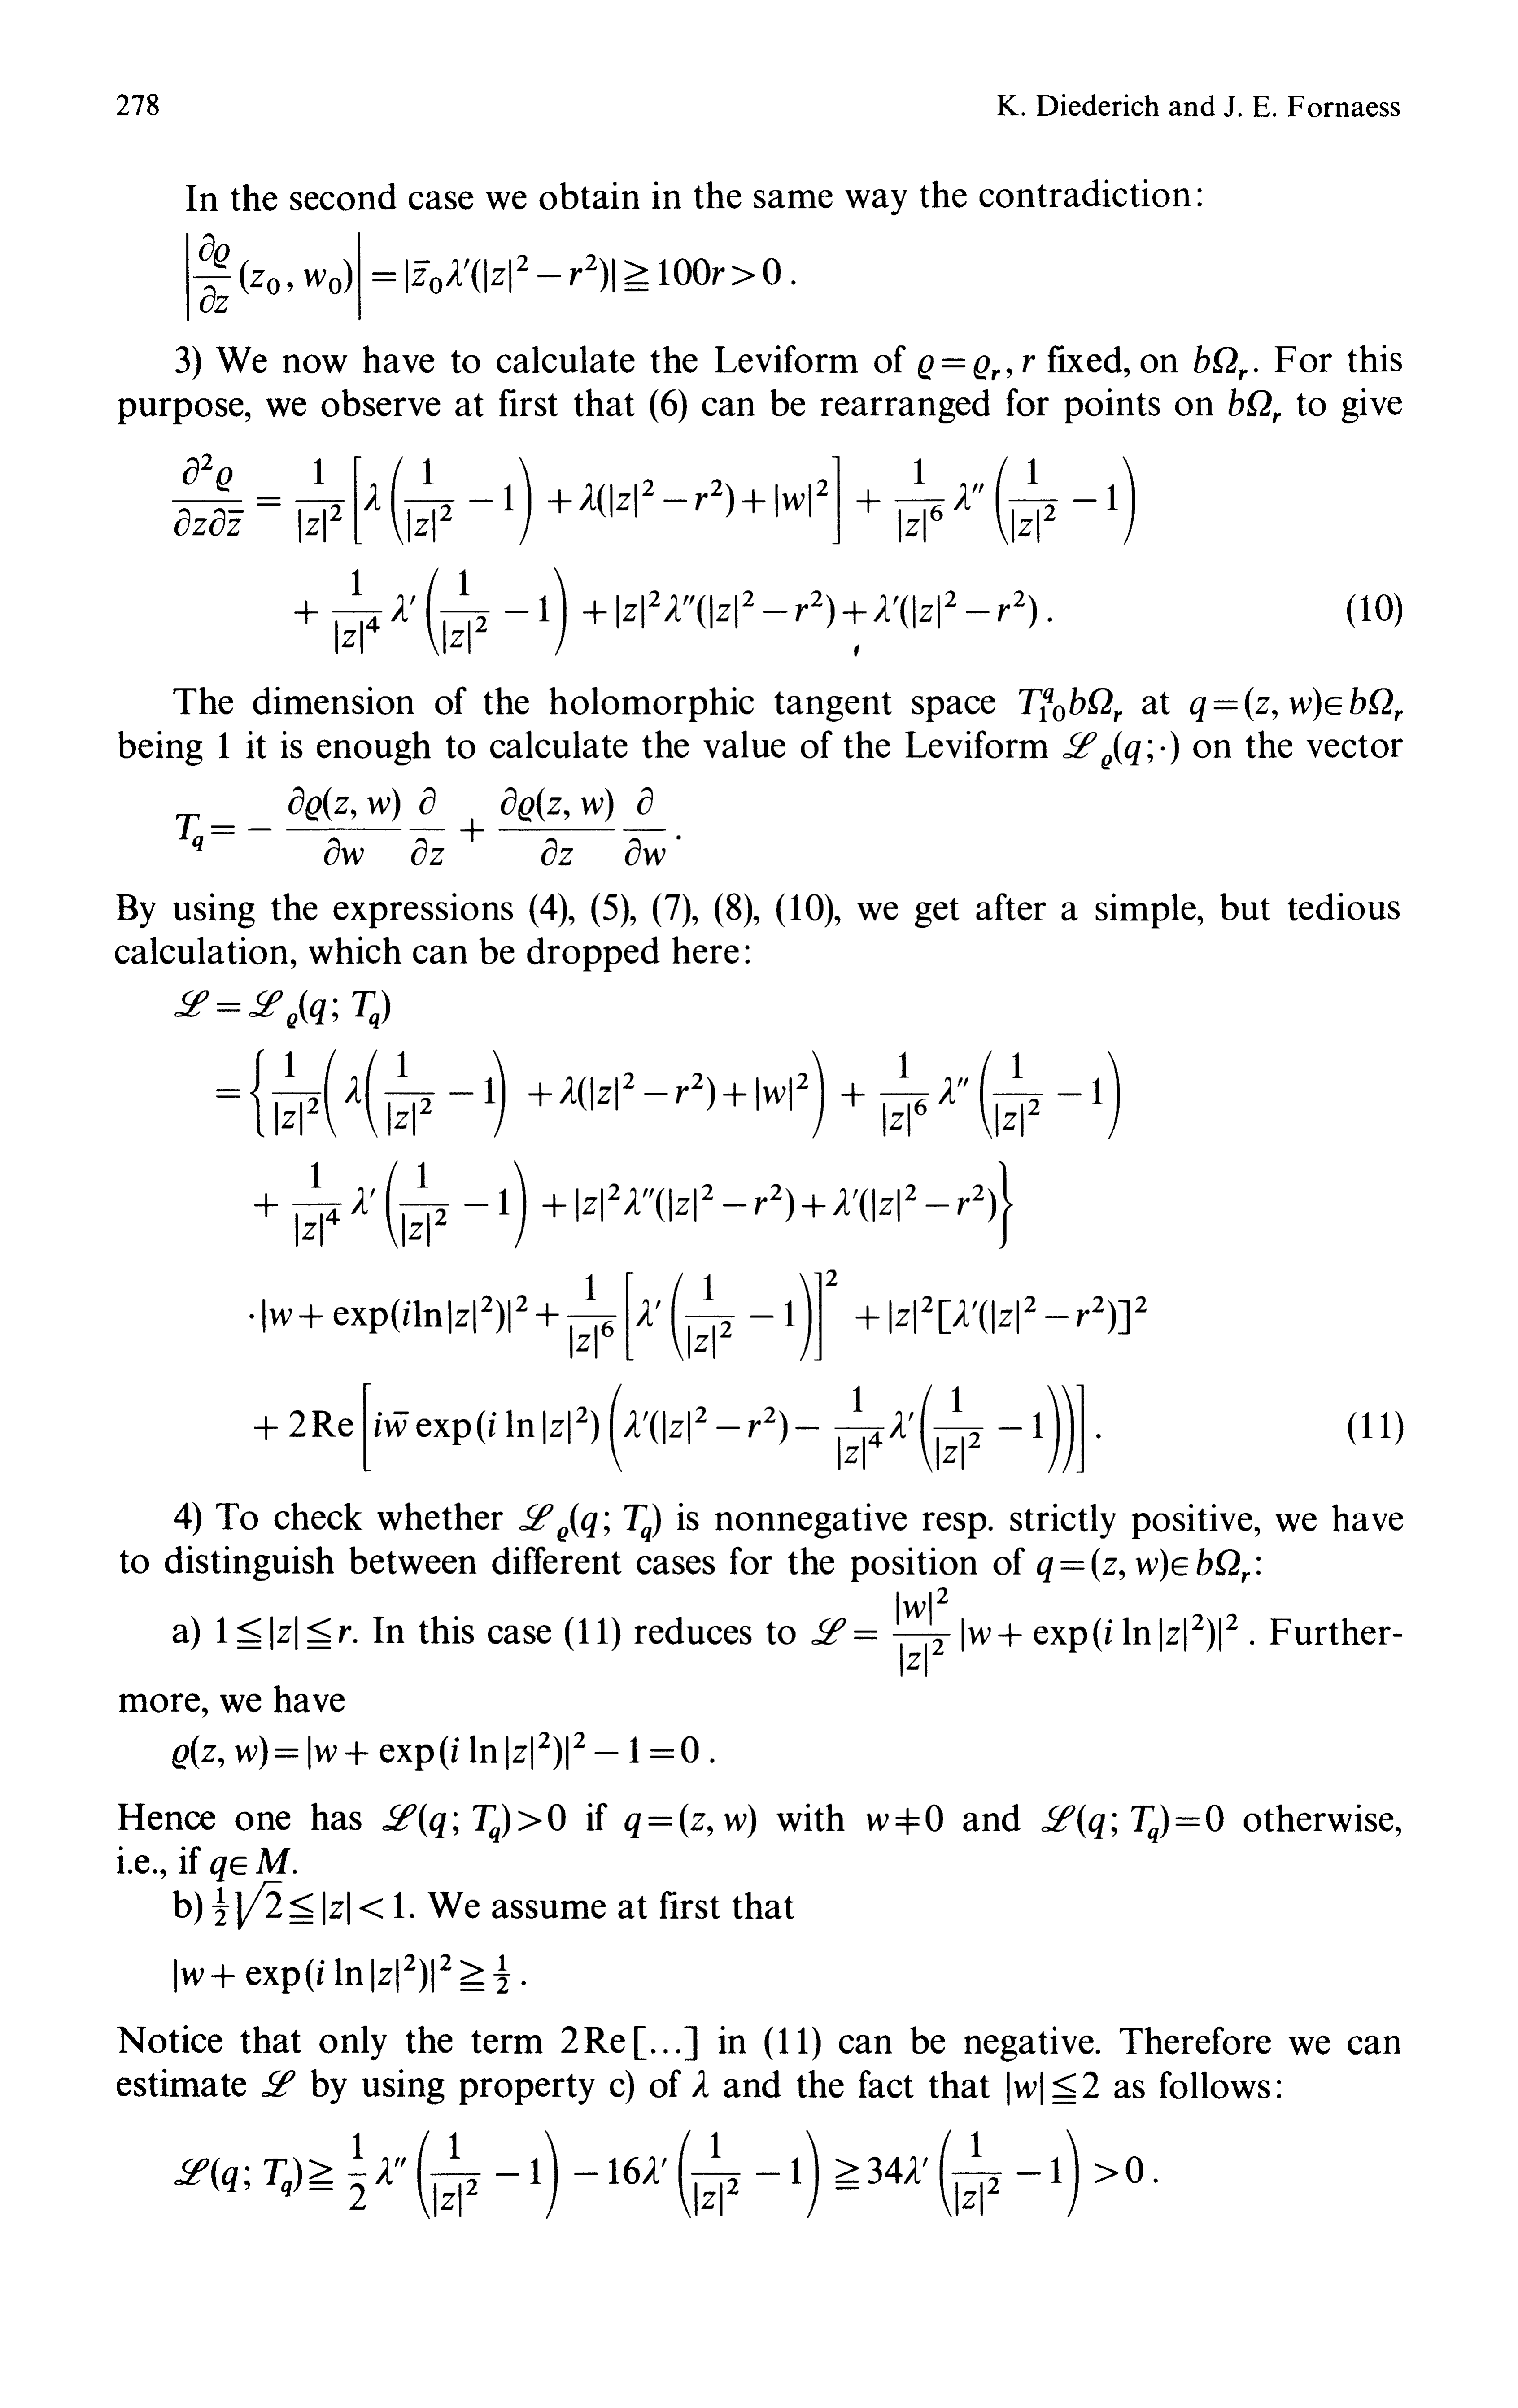maths: (171, 453, 1135, 544), (175, 2130, 1144, 2219), (250, 1270, 1145, 1361), (217, 1049, 1119, 1138), (254, 1383, 1084, 1472), (254, 1159, 1013, 1249), (294, 567, 1037, 656), (192, 233, 780, 320), (177, 787, 665, 866), (811, 1588, 1236, 1677), (171, 1731, 698, 1770), (210, 1855, 404, 1929), (175, 1953, 511, 1994), (175, 990, 390, 1028), (1037, 1548, 1250, 1583), (383, 1803, 565, 1843), (1189, 687, 1403, 720), (1042, 1805, 1222, 1843), (519, 1504, 661, 1542), (624, 1803, 756, 1838), (217, 1616, 352, 1649), (561, 2027, 696, 2060), (1063, 731, 1179, 769), (1020, 687, 1123, 722), (1007, 2070, 1098, 2105), (210, 1848, 290, 1882), (866, 1805, 943, 1834), (918, 355, 1000, 379), (1229, 388, 1280, 423), (1194, 346, 1247, 379), (262, 2070, 296, 2097), (693, 2070, 708, 2097), (219, 731, 229, 757), (1023, 355, 1035, 372)
